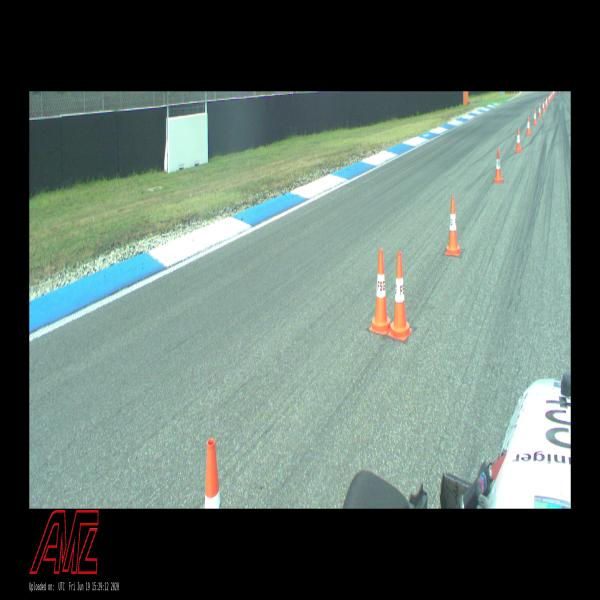orange_cone: (387, 252, 412, 341), (370, 249, 390, 334), (205, 438, 221, 509), (446, 197, 462, 256), (494, 148, 503, 182), (516, 128, 522, 152), (526, 116, 531, 136), (533, 110, 537, 125), (538, 104, 542, 117), (542, 100, 545, 112), (545, 98, 547, 108), (546, 97, 548, 105), (548, 94, 550, 102)
